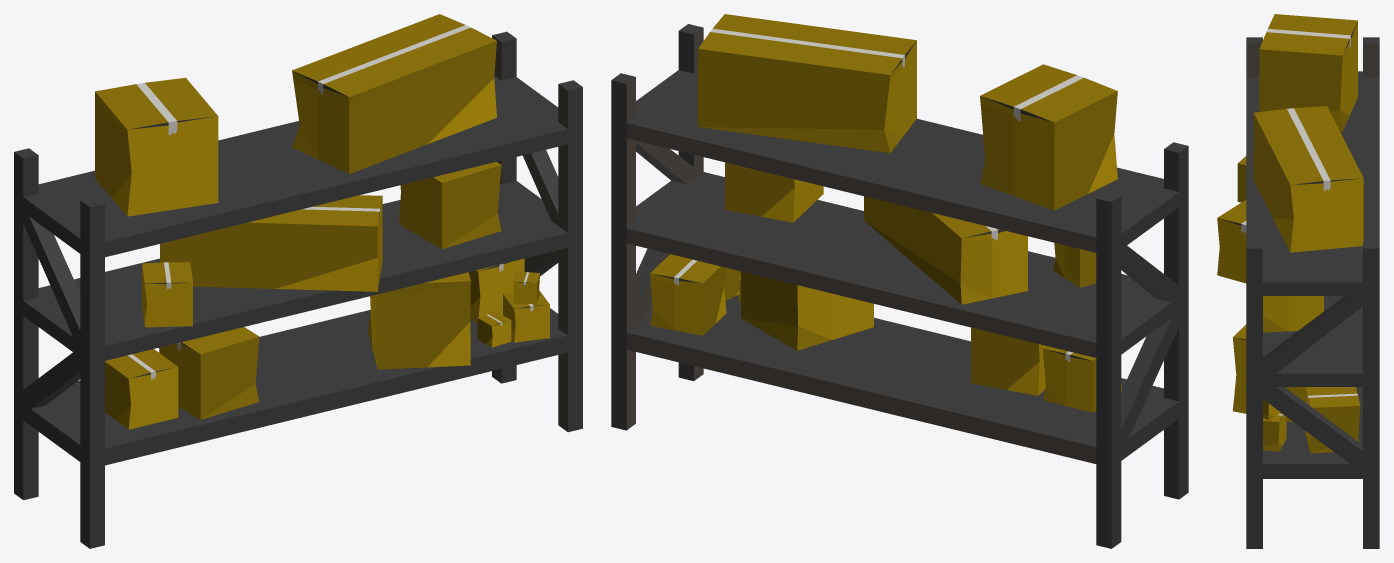
File: shelf_boxes_1.fbx
The picture shows the model from 3 angles, left to right: view 1: azimuth 30°, elevation 25°; view 2: azimuth 150°, elevation 25°; view 3: azimuth 270°, elevation 25°; orthographic projection. The views are drawn at different scales.
Visible parts, largest first — view 1: mesh_RackBoxes1; view 2: mesh_RackBoxes1; view 3: mesh_RackBoxes1.
Boxes of the visible parts, x1=… form: mesh_RackBoxes1: x1=14, y1=14, x2=582, y2=548; mesh_RackBoxes1: x1=611, y1=14, x2=1188, y2=548; mesh_RackBoxes1: x1=1217, y1=14, x2=1379, y2=548.
Bounding box in the file's own units: 3 × 2.3 × 0.9749.
